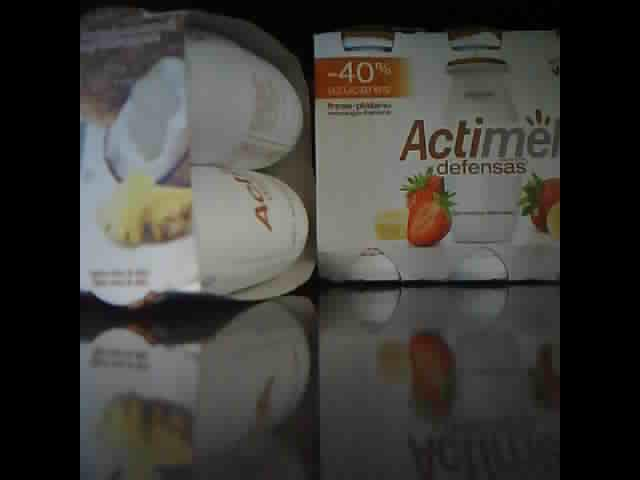actimel: (81, 1, 318, 306), (312, 29, 560, 284)
